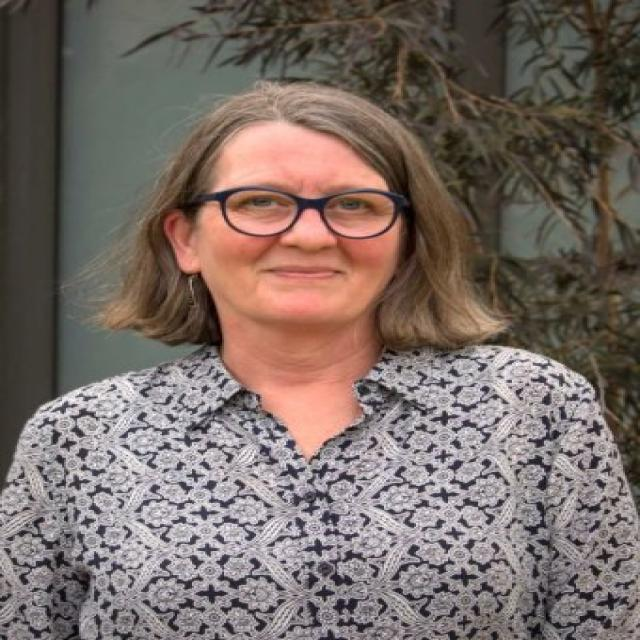mobile_phonerotation: (0, 77, 638, 638)
